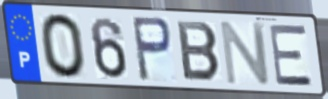6: (88, 15, 129, 80)
B: (175, 19, 223, 84)
E: (266, 24, 316, 88)
N: (218, 19, 273, 87)
O: (38, 12, 89, 81)
P: (129, 14, 174, 84)
